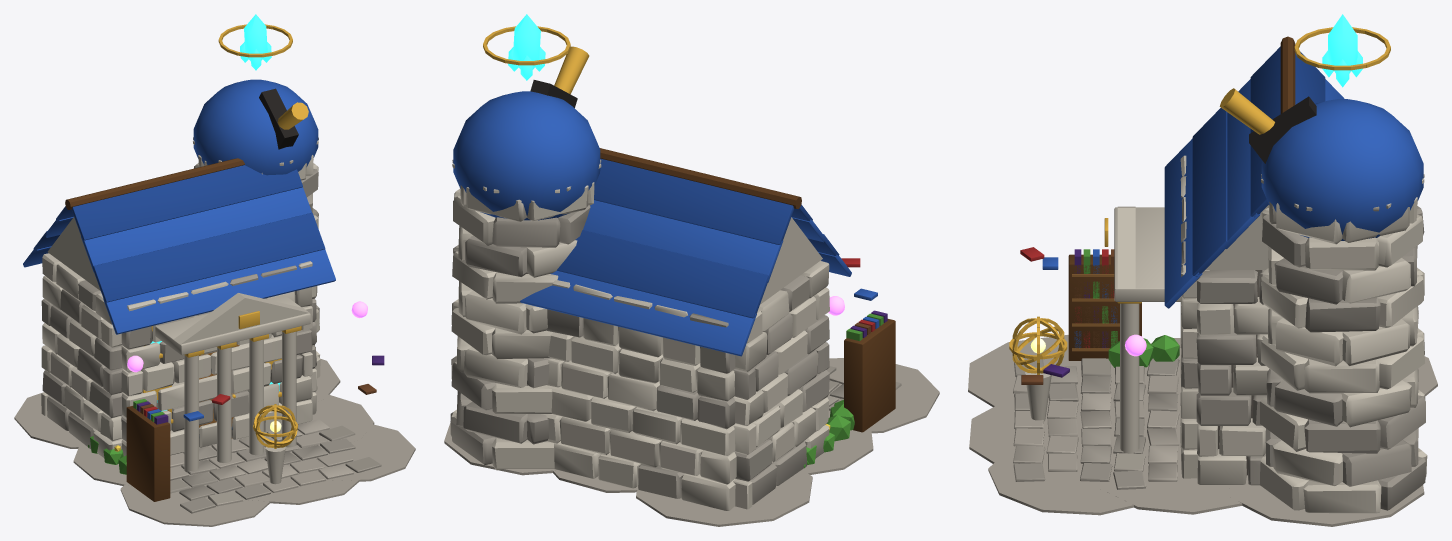
File: akademia_poz20.glb
3 renders of one model, left to right at view 1: azimuth 30°, elevation 25°; view 2: azimuth 150°, elevation 25°; view 3: azimuth 270°, elevation 25°, orthographic. The views are drawn at different scales.
Visible parts, largest first — view 1: akademia_poz20; view 2: akademia_poz20; view 3: akademia_poz20.
Boxes of the visible parts, x1,y1,x2,y2 form: akademia_poz20: (14, 14, 415, 526); akademia_poz20: (444, 14, 939, 526); akademia_poz20: (968, 14, 1437, 526).
Bounding box in the file's own units: 7.38 × 8.65 × 7.72.
